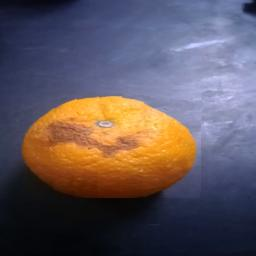Orange Semifresh: (21, 82, 203, 198)
